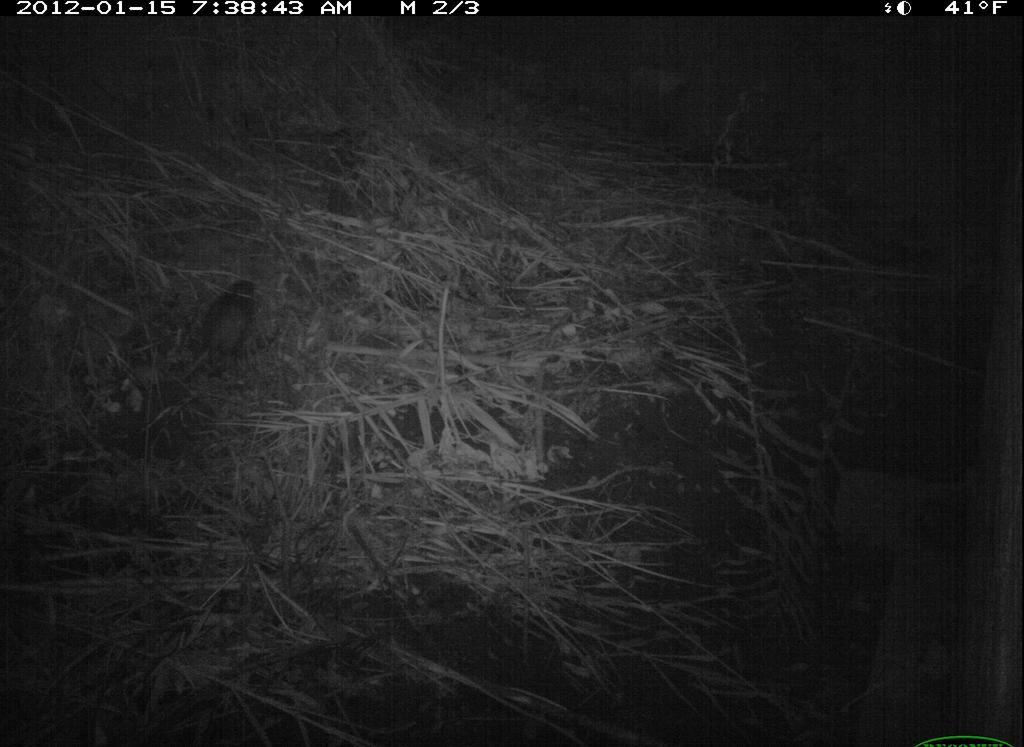opossum: (176, 268, 295, 397)
